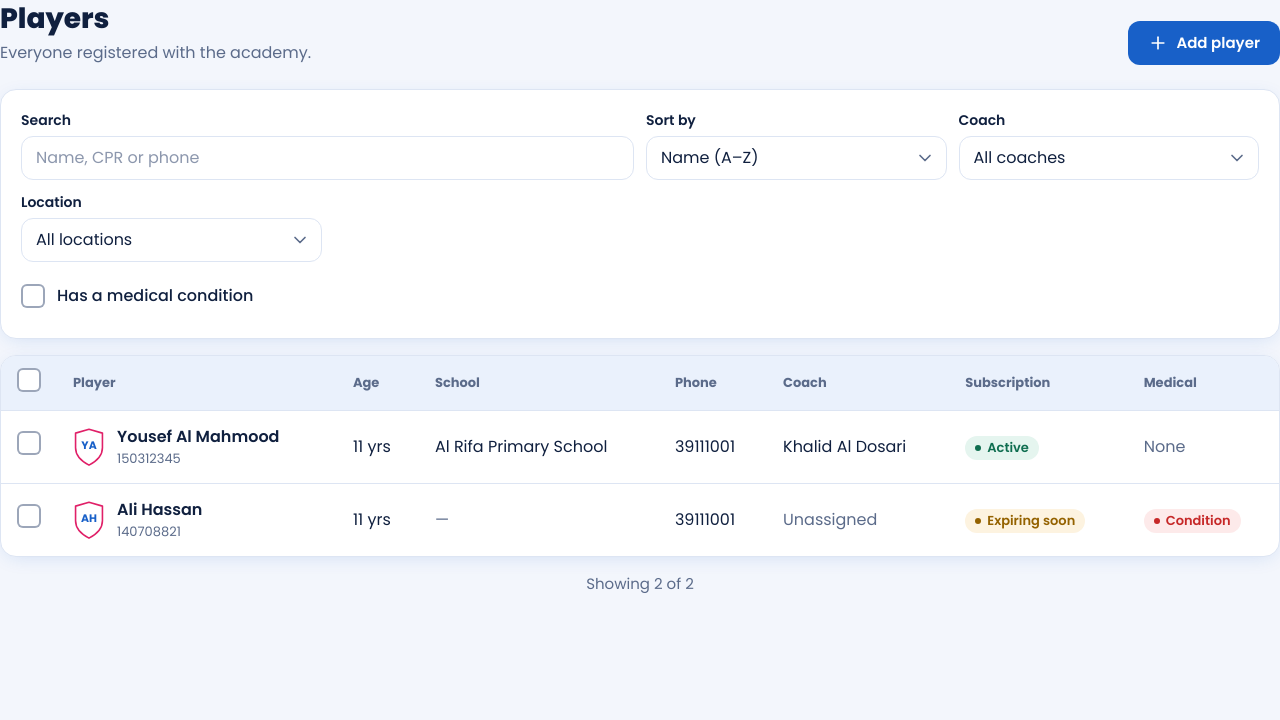
PlayersPage › as an admin › shows a "no match" state with a way back when filters find nothing
Type "zzz" into the search field labelled "Search".
click(328, 158); type("zzz")  # box [21,136,634,180]
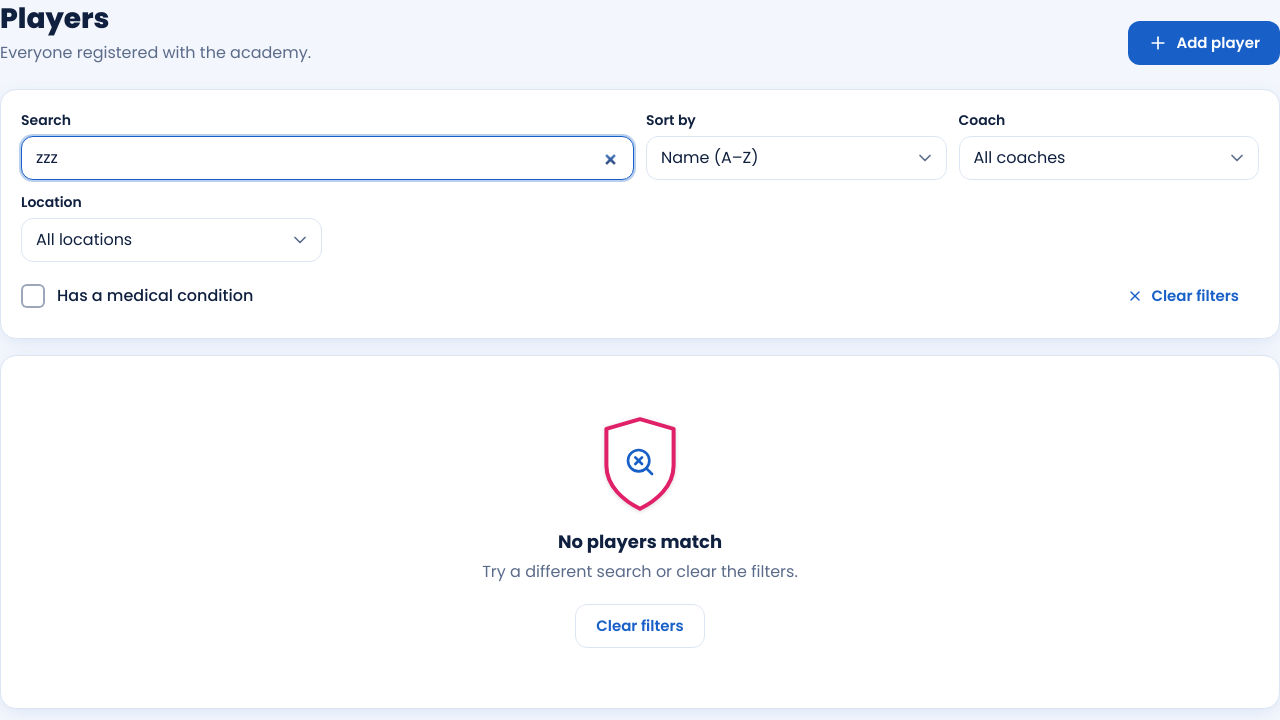
Now the heading "No players match" is shown, box [558,528,722,556]
The unfiltered list is still in the query cache, so it comes straight back.
Click the button "Clear filters" in the row of "Has a medical condition".
click(1183, 296)  # box [1107,274,1259,318]
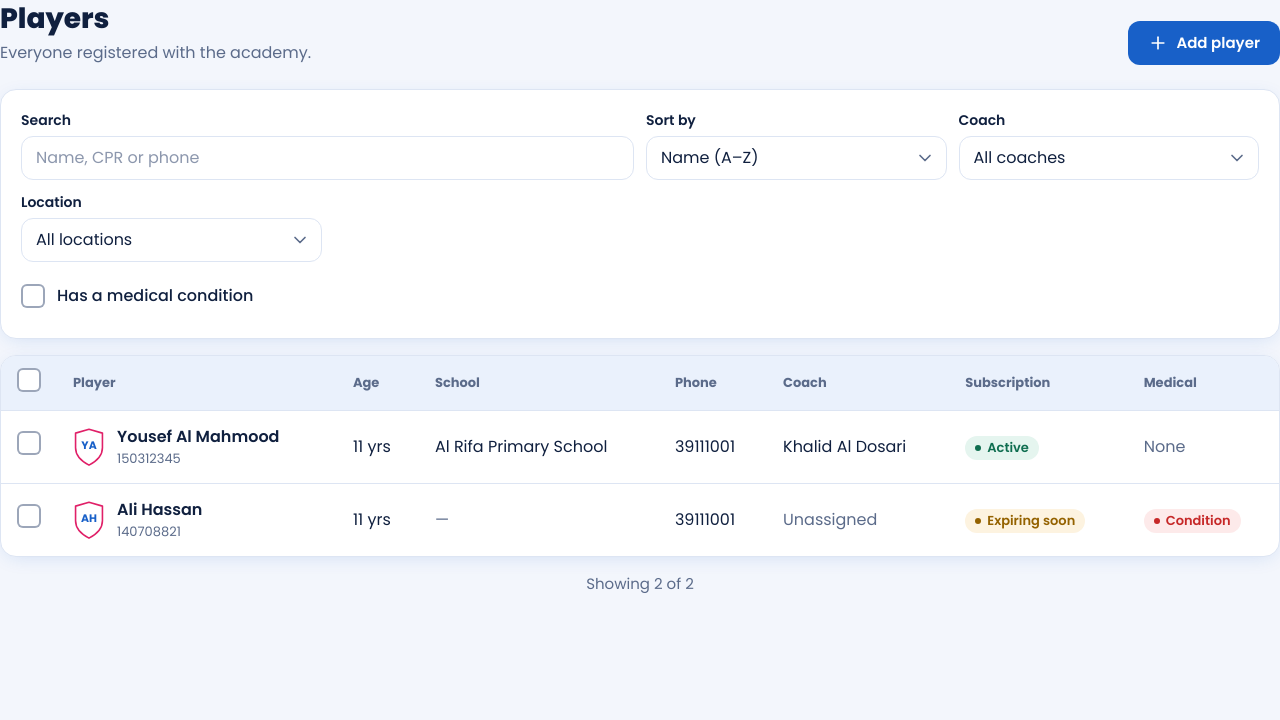
Now the search field labelled "Search" is empty, box [21,136,634,180]
Now the text "Yousef Al Mahmood" is shown, box [117,425,279,449]
Now the heading "No players match" is gone
